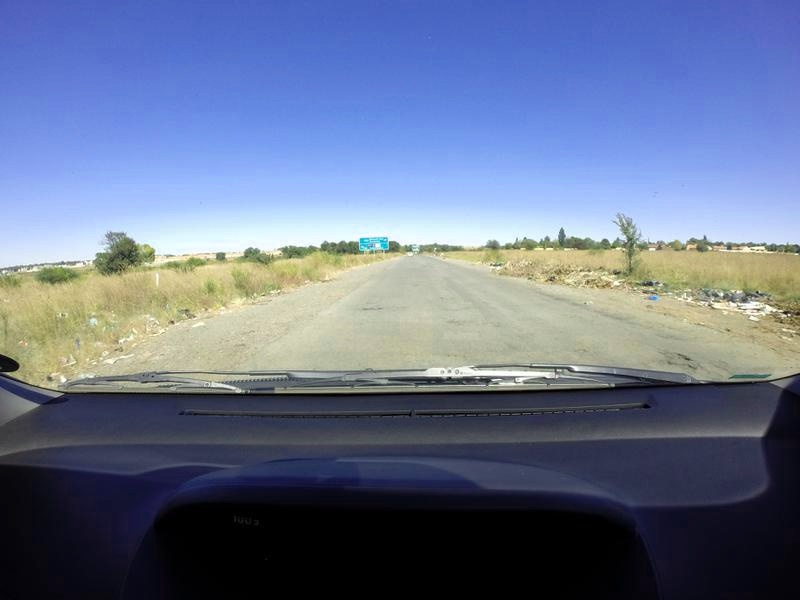pothole: (663, 335, 702, 372), (357, 304, 391, 320)
